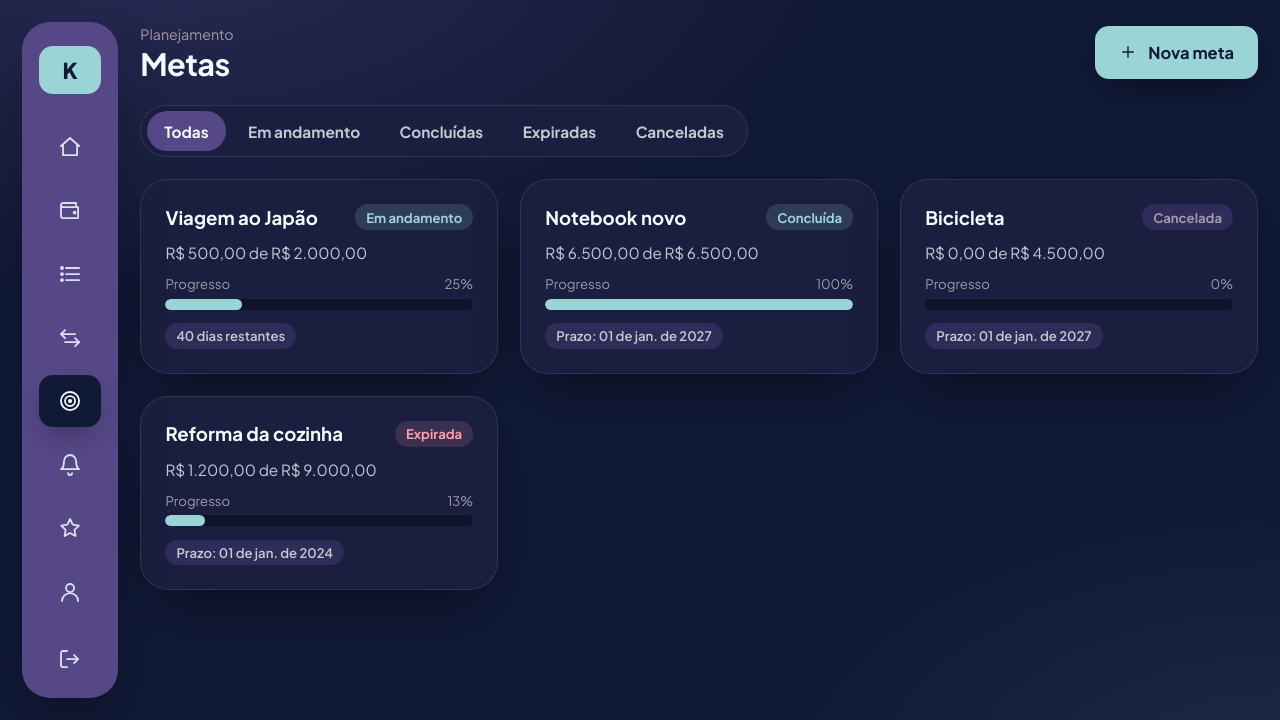
metas: lista › o filtro mostra só as metas da situação escolhida
Check: the text "Viagem ao Japão" is shown, box [165,206,318,229]
Click the button "Concluídas": (441, 131) [382,111,501,151]
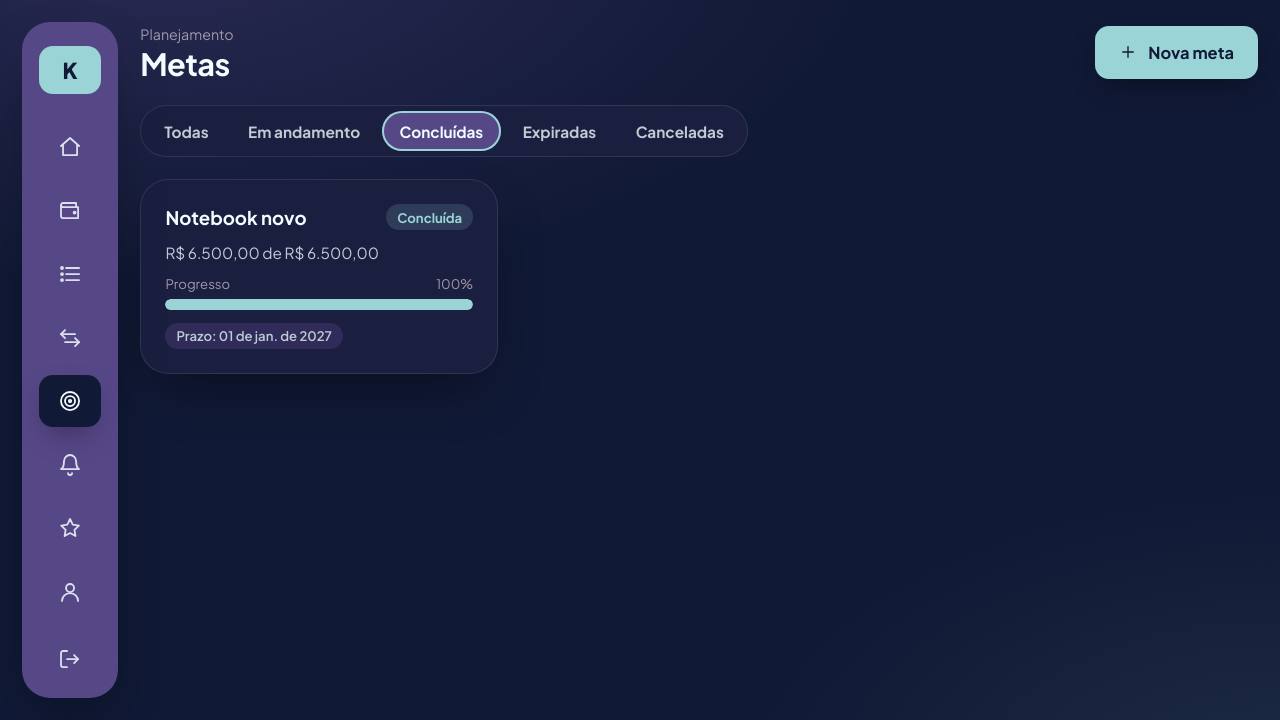
Check: the text "Notebook novo" is shown, box [165,206,306,229]
Check: the link "Viagem ao Japão" is gone
Check: the link "Bicicleta" is gone
